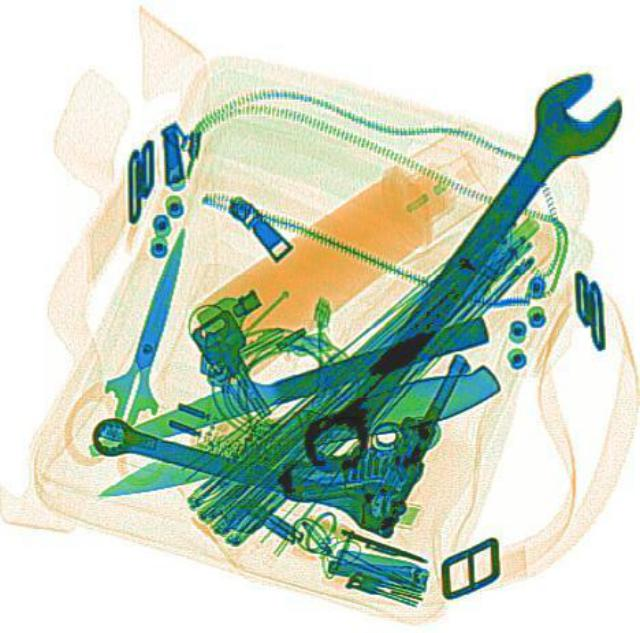Gun: (271, 311, 475, 536)
Knife: (90, 354, 506, 515), (80, 307, 490, 462), (92, 220, 208, 429)
Wrench: (278, 58, 634, 485), (85, 407, 409, 534)
